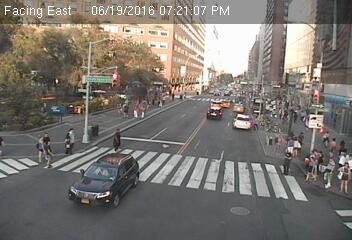pos: (299, 146, 327, 183), (29, 124, 55, 159), (318, 156, 341, 186), (60, 126, 82, 156), (108, 126, 129, 154), (277, 147, 298, 175), (335, 159, 351, 192), (39, 142, 58, 166), (326, 136, 343, 158), (129, 99, 144, 120), (116, 98, 130, 117), (293, 128, 307, 146), (320, 127, 329, 140)
